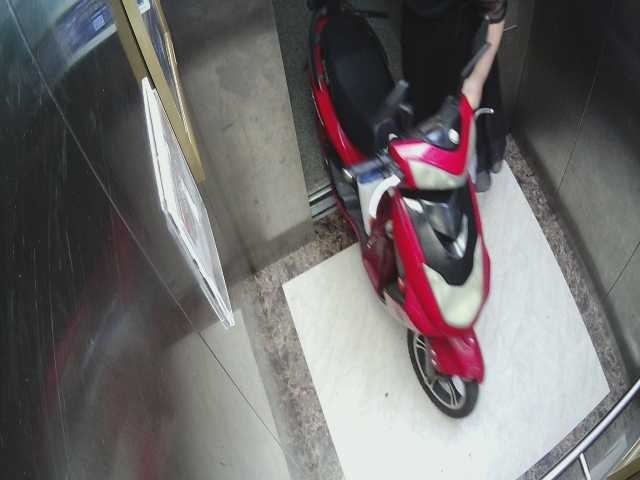emotor: (305, 6, 506, 418)
